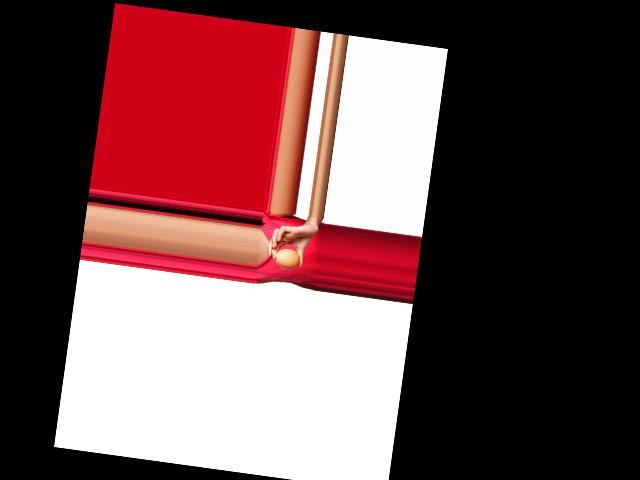egg: (273, 247, 301, 270)
